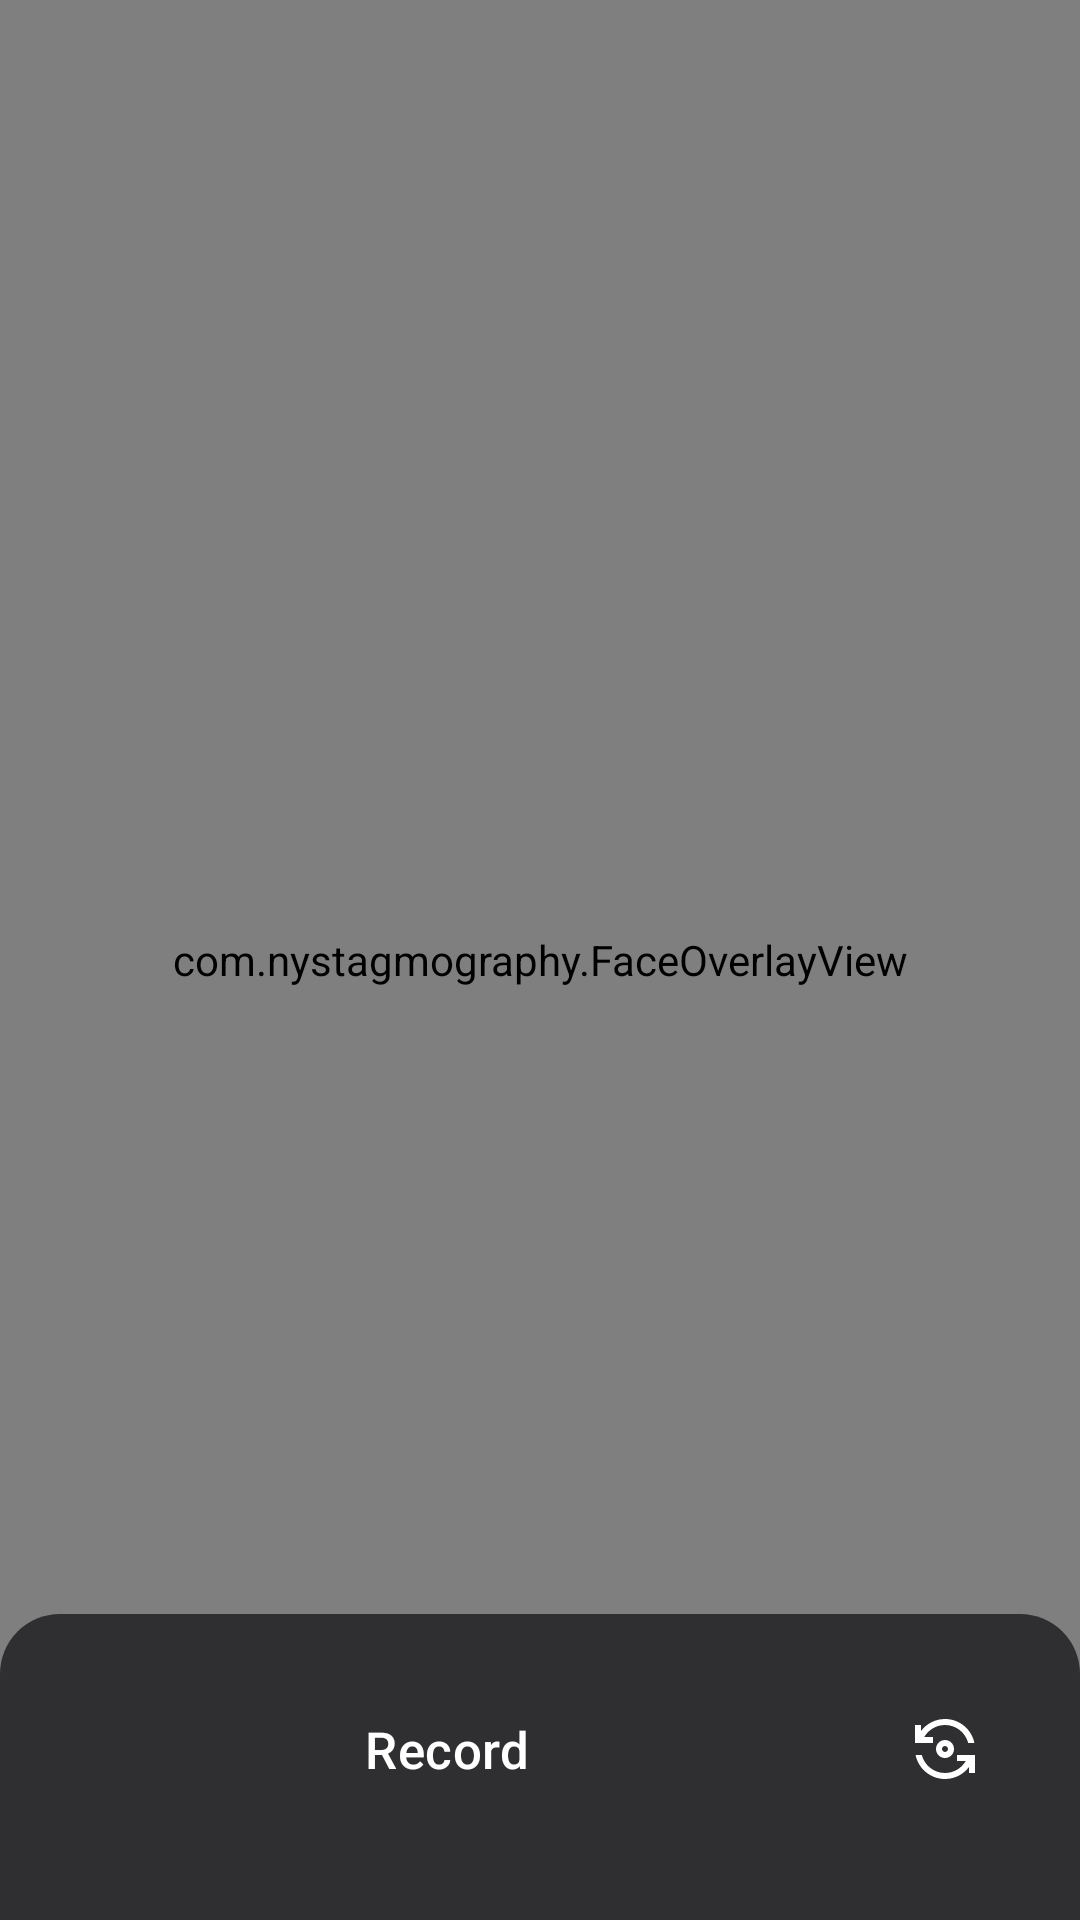

Point at icon controls on the screen. Image size 1080x1920, points as [x,y].
Switch camera: [945,1749]
